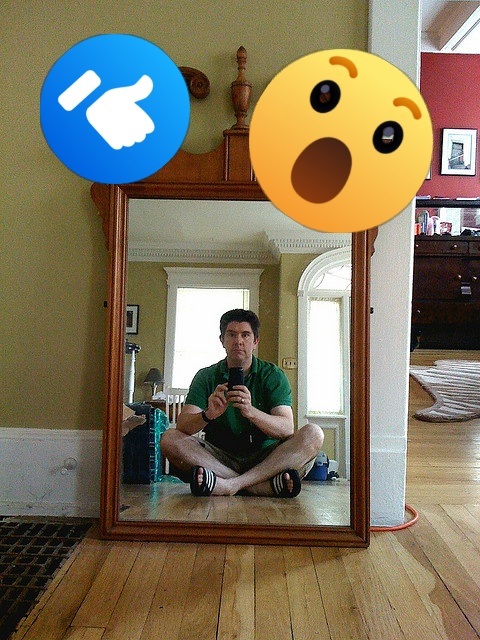like: (40, 34, 190, 184)
wow: (249, 49, 433, 233)
